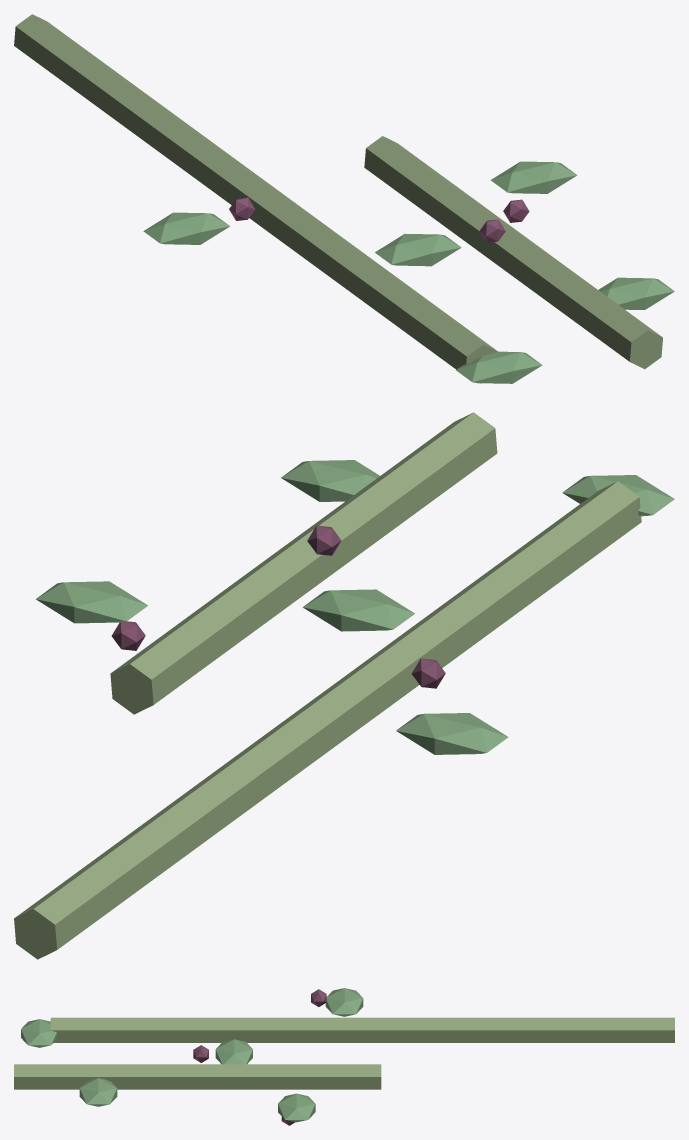
Rendered from blackberry_vine.glb.
The picture shows the model from 3 angles, top to bottom: view 1: azimuth 30°, elevation 25°; view 2: azimuth 150°, elevation 25°; view 3: azimuth 270°, elevation 25°; orthographic projection. The views are drawn at different scales.
Visible parts, largest first — view 1: world; view 2: world; view 3: world.
Boxes of the visible parts, <box> form: world: <box>14,14,674,383</box>; world: <box>14,412,674,959</box>; world: <box>14,988,674,1125</box>.
Bounding box in the file's own units: 0.8331 × 0.1425 × 1.8.
